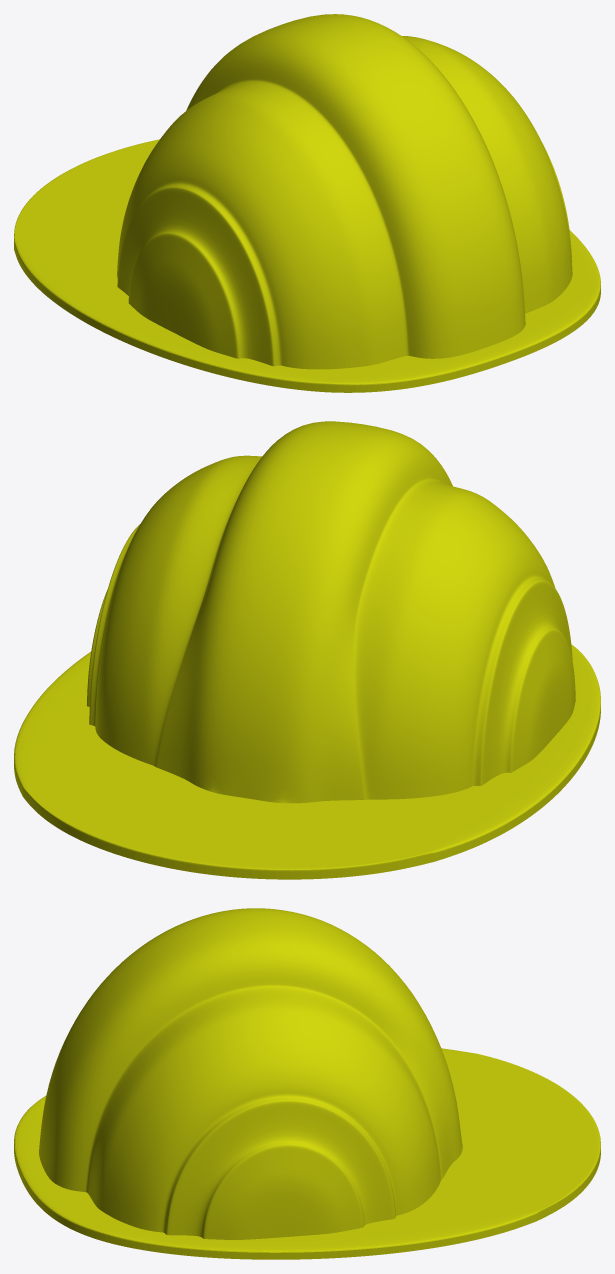
Rendered from tank.fbx.
3 renders of one model, top to bottom at view 1: azimuth 30°, elevation 25°; view 2: azimuth 150°, elevation 25°; view 3: azimuth 270°, elevation 25°, orthographic. The views are drawn at different scales.
Parts seen in each view (by area): view 1: Hat_001; view 2: Hat_001; view 3: Hat_001.
Boxes of the visible parts, x1=… form: Hat_001: x1=14, y1=14, x2=600, y2=392; Hat_001: x1=14, y1=421, x2=600, y2=879; Hat_001: x1=14, y1=908, x2=600, y2=1259.
Bounding box in the file's own units: 2.88 × 1.53 × 3.41.
